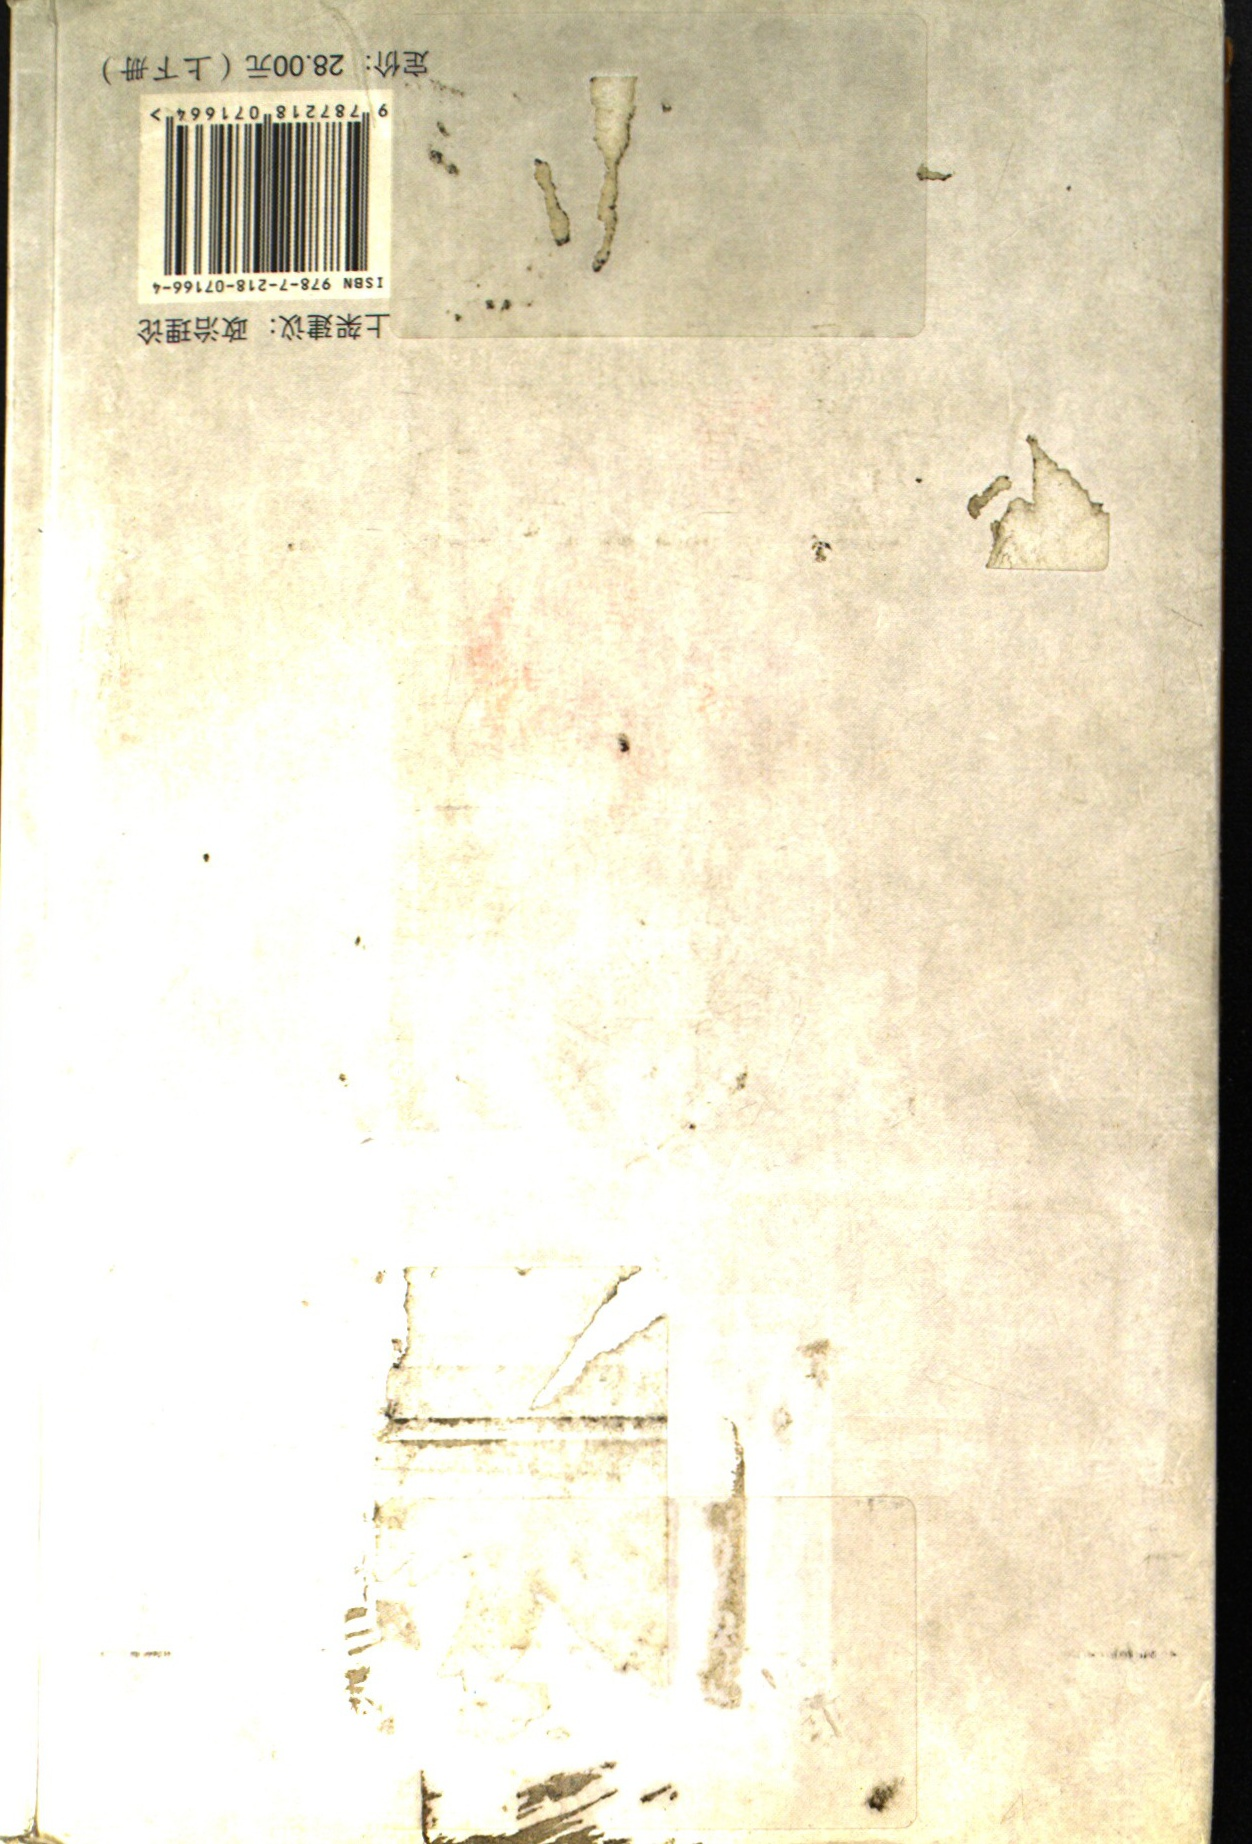barcode: (145, 95, 397, 299)
